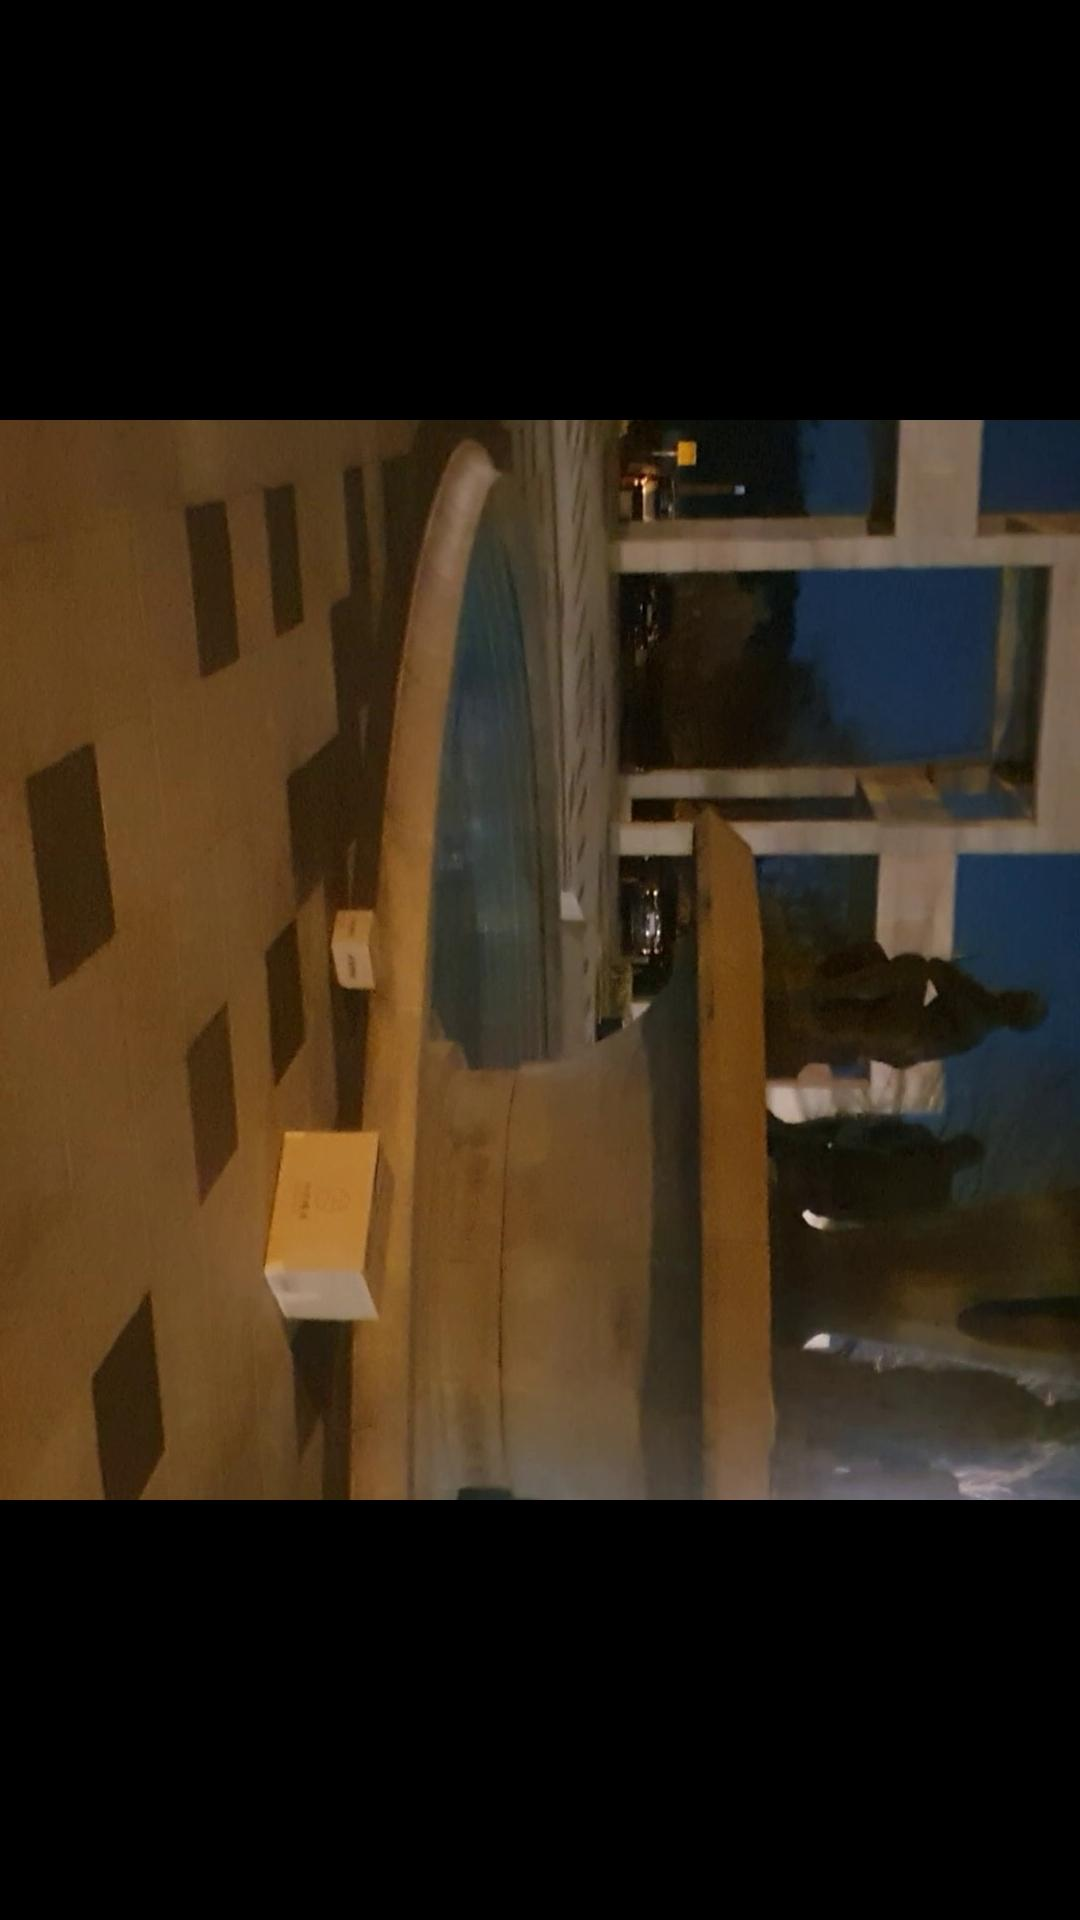Box: (253, 1116, 400, 1325), (328, 898, 396, 1000)
